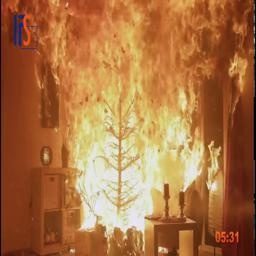fire: (3, 0, 244, 240)
